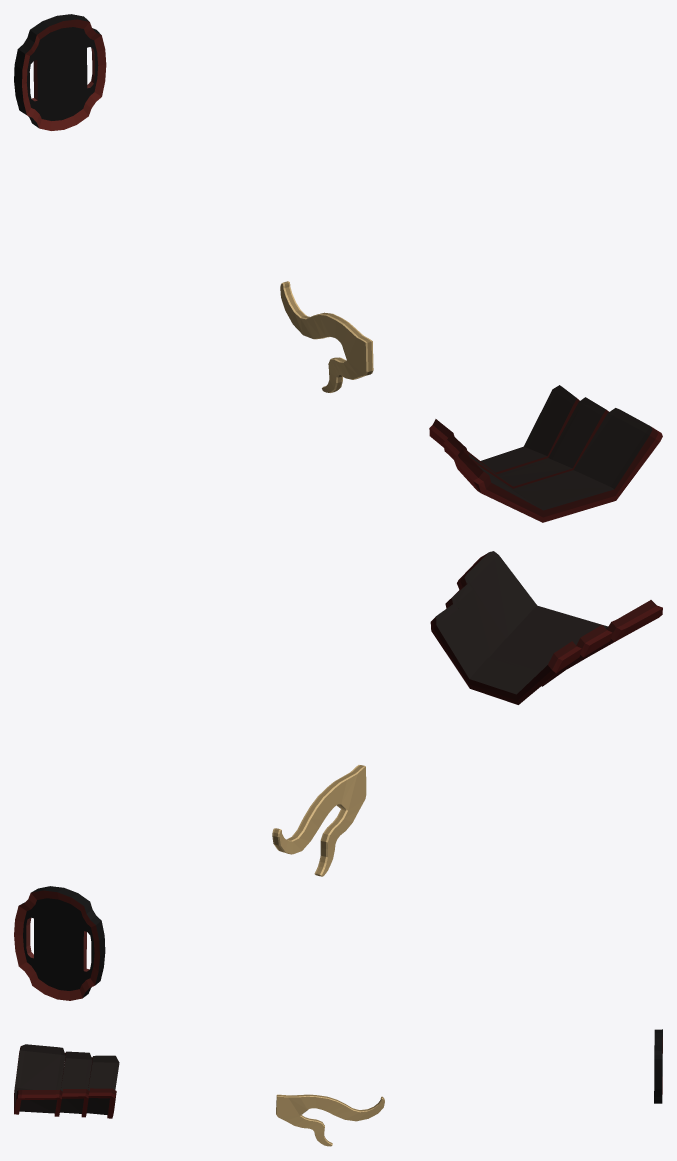
Rendered from largeCrossbowSamuraiSimpleHandle.glb.
3 views of the same model, one above another, from view 1: azimuth 30°, elevation 25°; view 2: azimuth 150°, elevation 25°; view 3: azimuth 270°, elevation 25° (orthographic). The views are drawn at different scales.
Parts seen in each view (by area): view 1: largeCrossbowSamuraiSimpleHandle; view 2: largeCrossbowSamuraiSimpleHandle; view 3: largeCrossbowSamuraiSimpleHandle.
Part boxes in pixels (box(x1,y1,x2,y2)): largeCrossbowSamuraiSimpleHandle: box(14, 14, 662, 522); largeCrossbowSamuraiSimpleHandle: box(14, 551, 662, 1000); largeCrossbowSamuraiSimpleHandle: box(14, 1029, 662, 1146).
Size of the model in its own units: 0.1935 by 0.1791 by 0.941.
